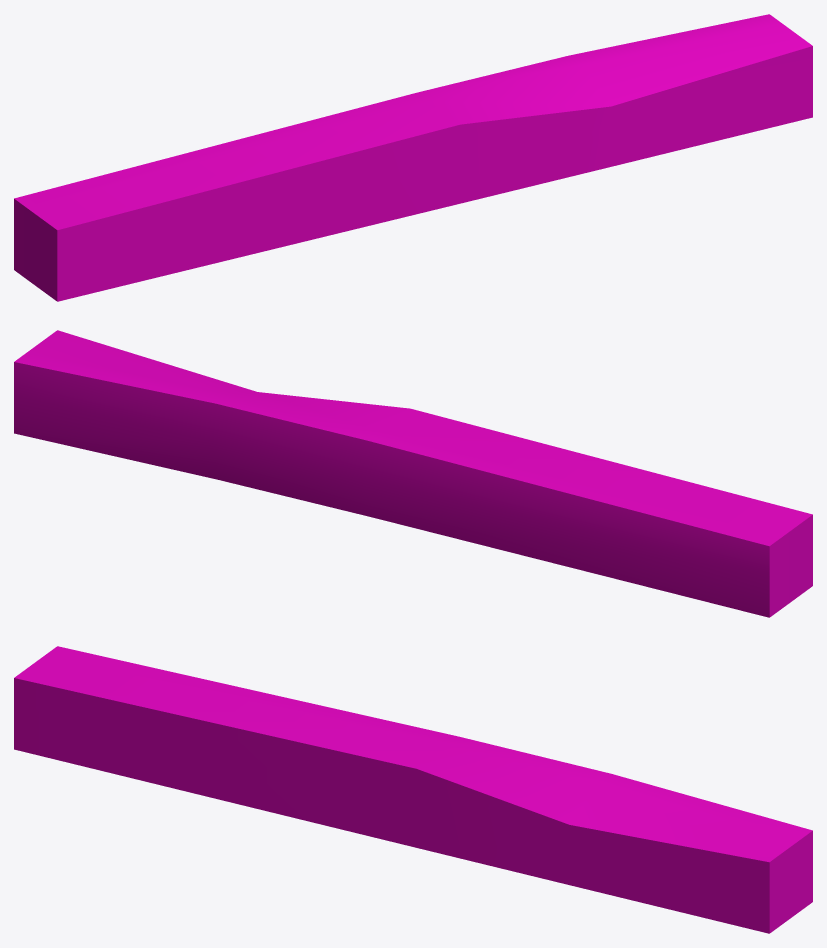
Rendered from Beam_Roof.fbx.
3 views of the same model, one above another, from view 1: azimuth 30°, elevation 25°; view 2: azimuth 150°, elevation 25°; view 3: azimuth 330°, elevation 25° (orthographic).
Parts seen in each view (by area): view 1: Beam_Roof; view 2: Beam_Roof; view 3: Beam_Roof.
Part boxes in pixels (<box>): Beam_Roof: <box>14,14,812,301</box>; Beam_Roof: <box>14,330,812,617</box>; Beam_Roof: <box>14,646,812,933</box>.
Size of the model in its own units: 300 by 30.13 by 31.99.
